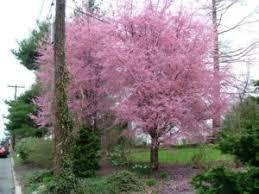tree: (101, 9, 217, 171)
